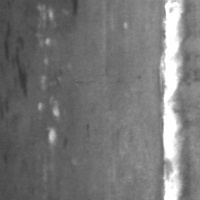inclusion: (0, 16, 30, 110)
scratches: (157, 1, 189, 200), (35, 7, 61, 144)
